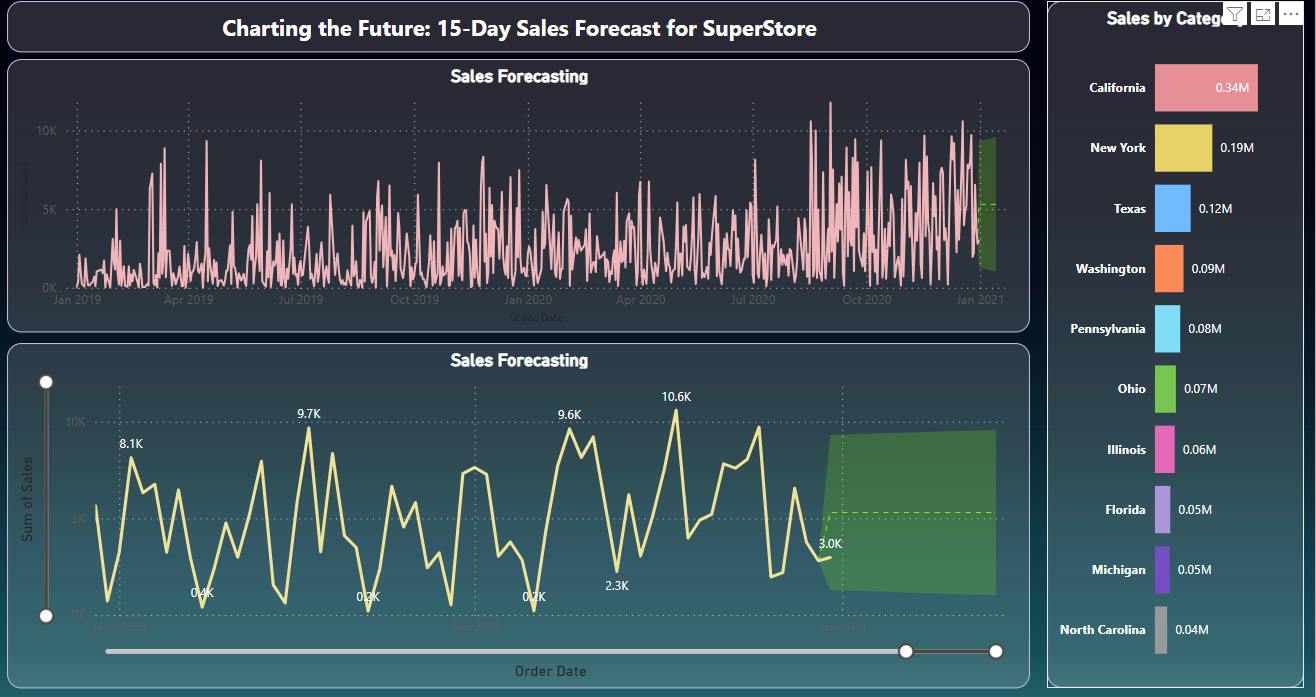

The page's visual inventory and layout, read from the dashboard file:
{"tool":"powerbi","page":{"name":"Sales Forecasting","canvas":[1280,720],"ordinal":1},"visuals":[{"type":"lineChart","title":"Sales Forecasting","fields":{"Y":["Sum(SuperStore_Sales_Dataset.Sales)"],"Category":["SuperStore_Sales_Dataset.Order Date"]},"box":[7.8,94.3,995,265.5],"z":0},{"type":"lineChart","title":"Sales Forecasting","fields":{"Y":["Sum(SuperStore_Sales_Dataset.Sales)"],"Category":["SuperStore_Sales_Dataset.Order Date"]},"box":[7.8,370.6,995,335.6],"z":1000},{"type":"textbox","box":[7.8,37.9,995,49.6],"z":2000},{"type":"clusteredBarChart","title":"Sales by Category","fields":{"Category":["SuperStore_Sales_Dataset.State"],"Y":["Sum(SuperStore_Sales_Dataset.Sales)"]},"box":[1019.3,37.9,250,668.2],"z":2001}]}

Visuals, with their boxes in screenshot pixels (x1, y1, x2, y2):
"Sales Forecasting" lineChart: <bbox>8, 59, 1027, 331</bbox>
"Sales Forecasting" lineChart: <bbox>8, 342, 1027, 686</bbox>
textbox: <bbox>8, 1, 1027, 52</bbox>
"Sales by Category" clusteredBarChart: <bbox>1044, 1, 1300, 686</bbox>
